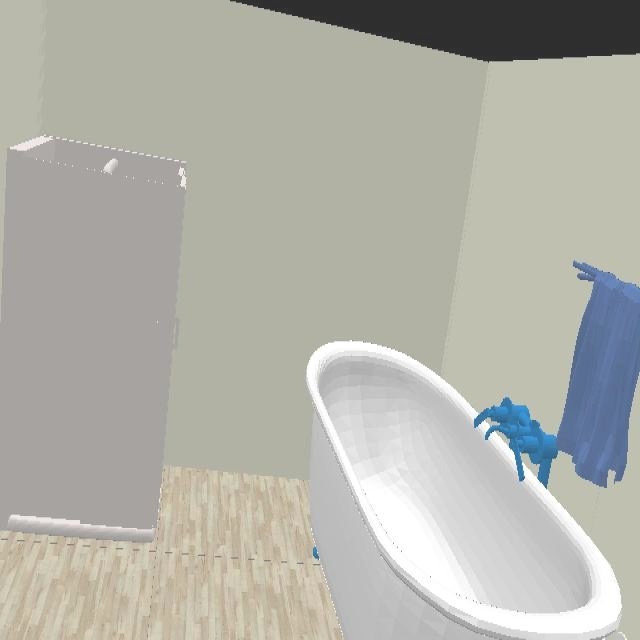bathtube: (305, 341, 628, 640)
shower: (0, 136, 189, 547)
